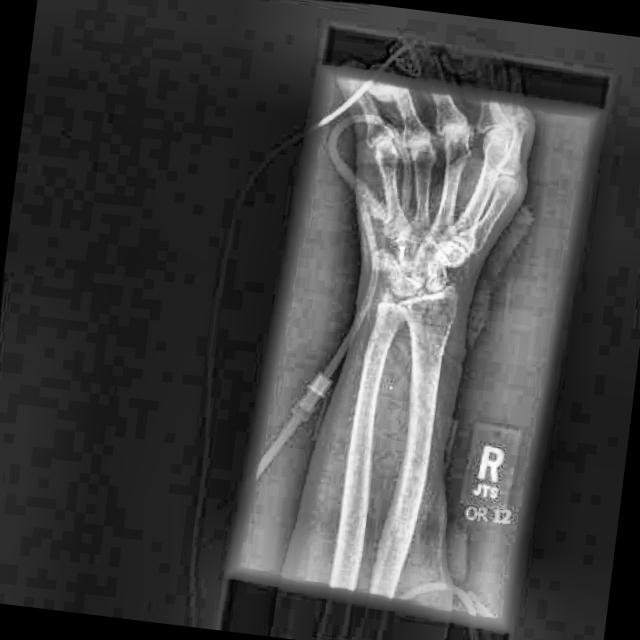fingers positive: (417, 254, 447, 293)
